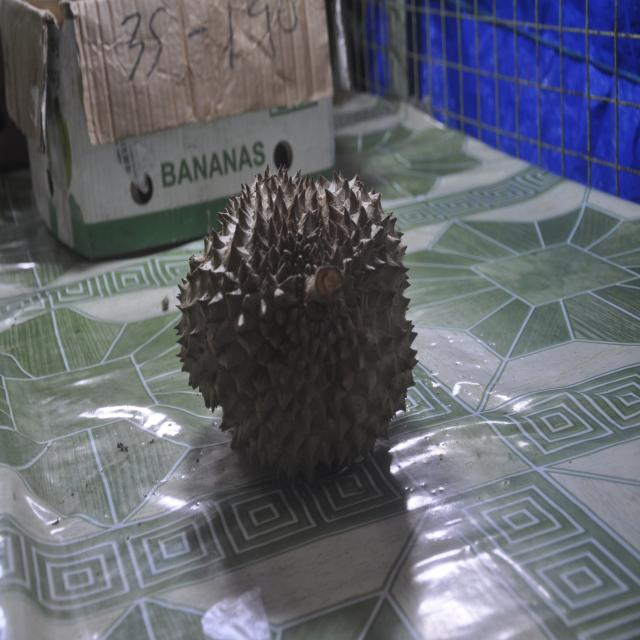mature: (176, 167, 417, 479)
